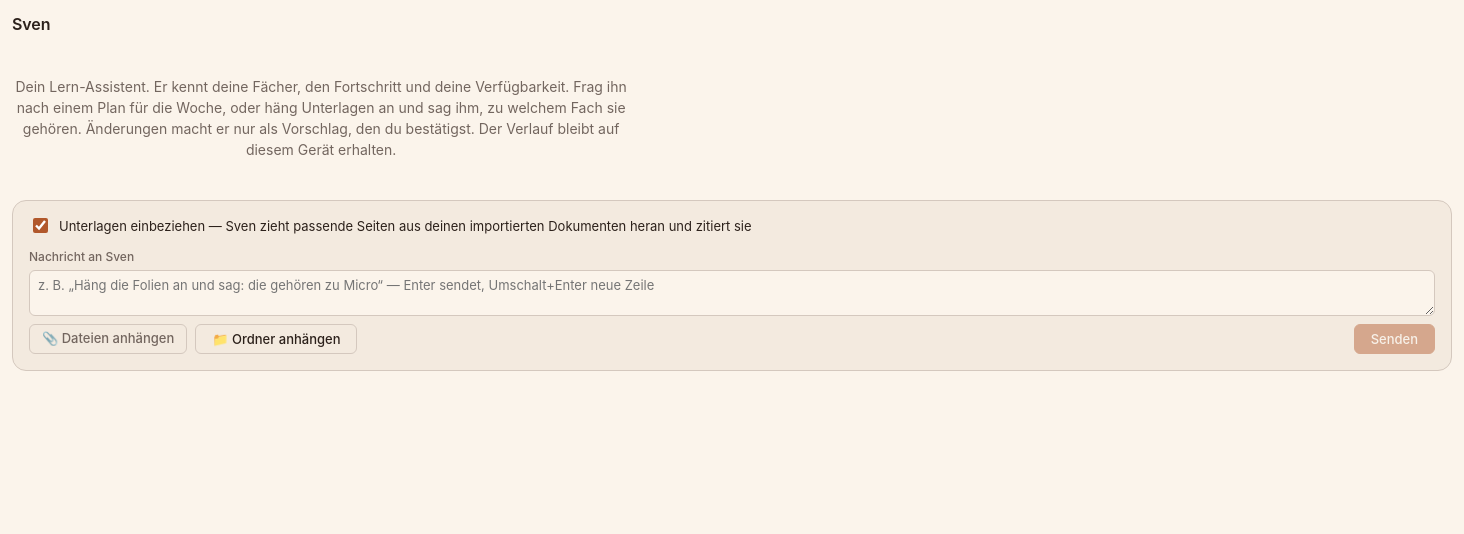
Test case: AssistantChat › sendet die Nachricht und zeigt Svens Antwort
This screenshot has width=1464, height=534.
Step 1. Type "Wie plane ich Montag?" into the text box labelled "Nachricht an Sven" → [732, 293], box [29,270,1435,316]
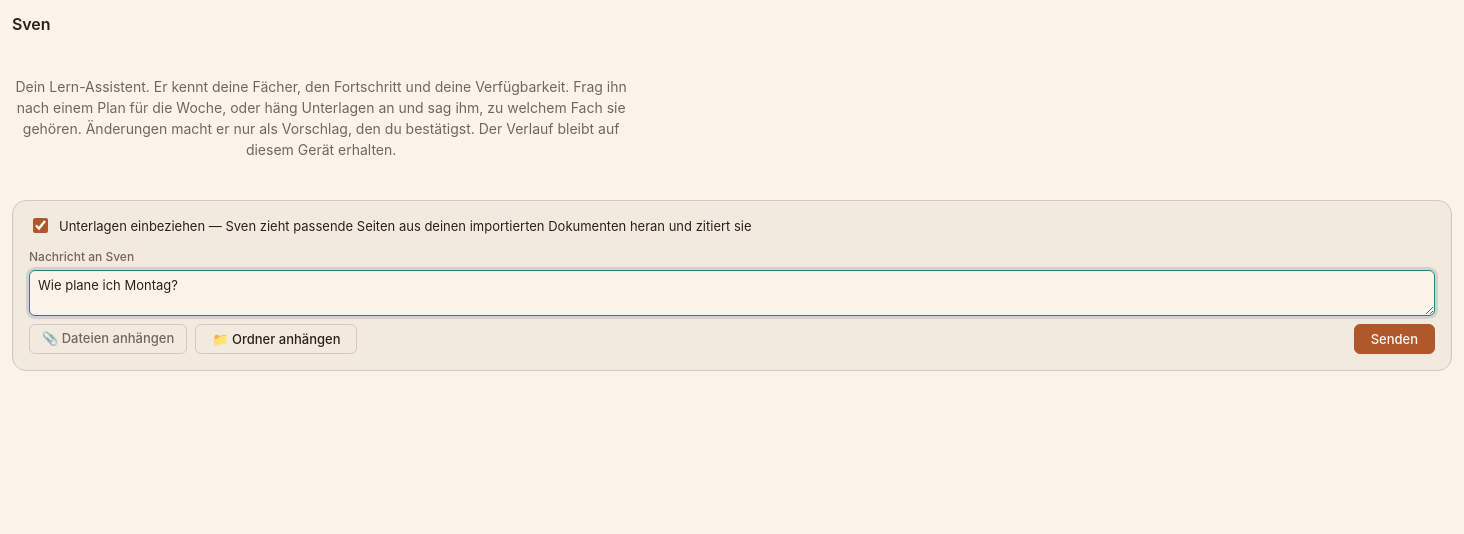
Step 2. Click the button "Senden" → [1394, 339], box [1354,324,1435,354]
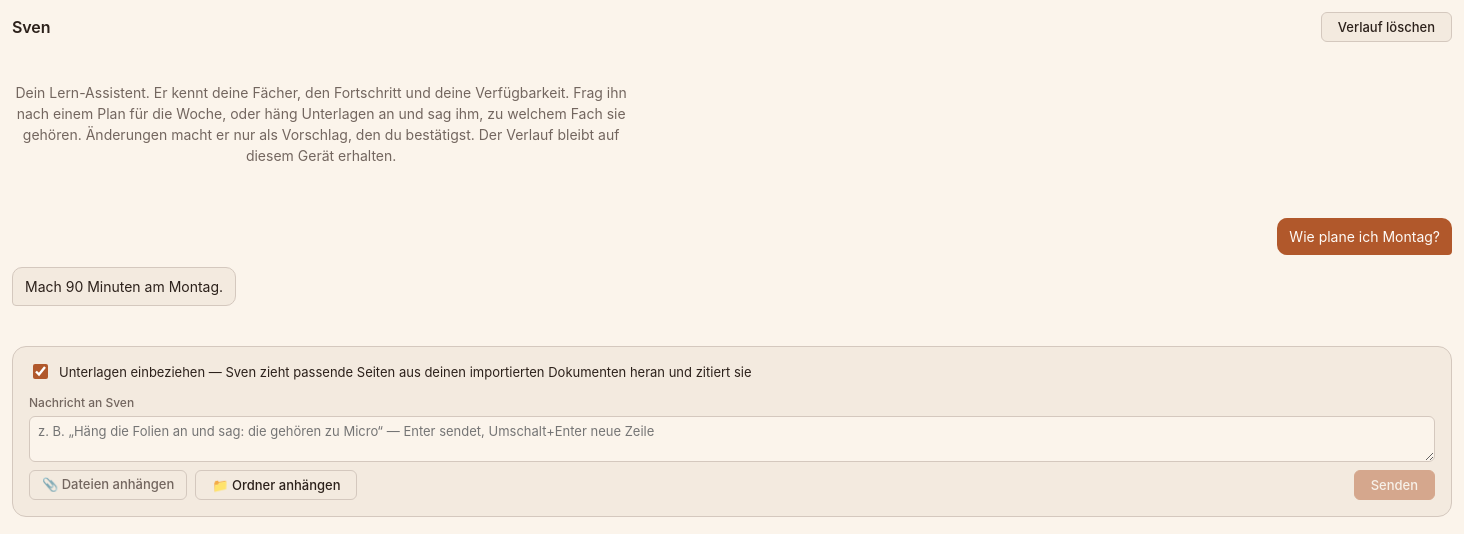
Expected: the text "Mach 90 Minuten am Montag." is shown, [25,276,223,297]
Expected: the text "Wie plane ich Montag?" is shown, [1277,218,1452,255]
